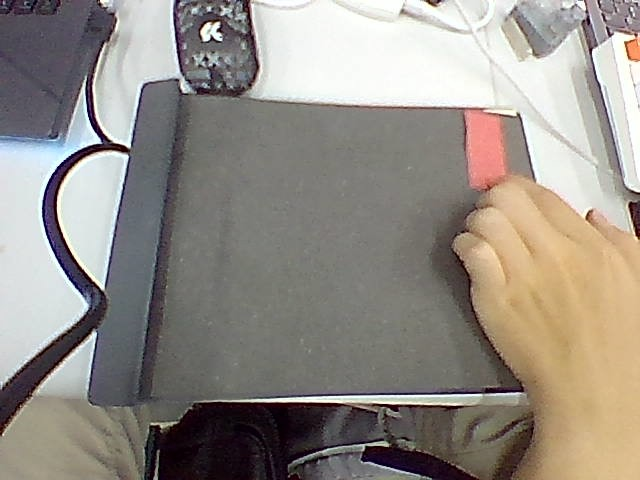card: (465, 110, 507, 189)
